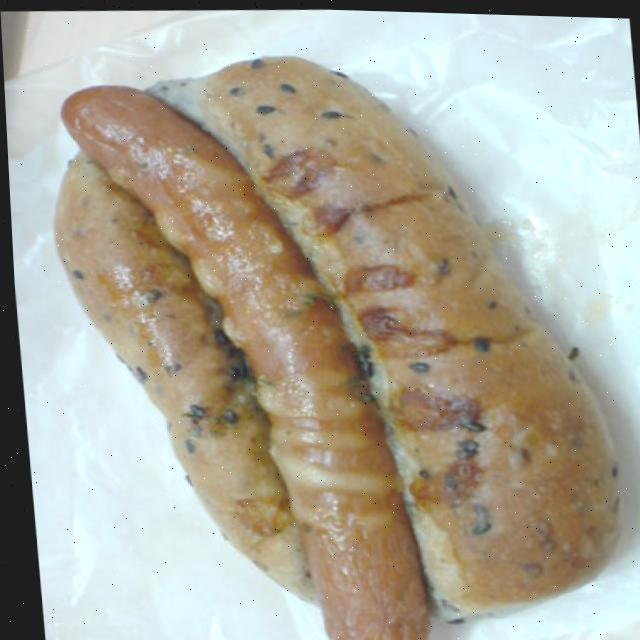三明治: (48, 54, 610, 640)
